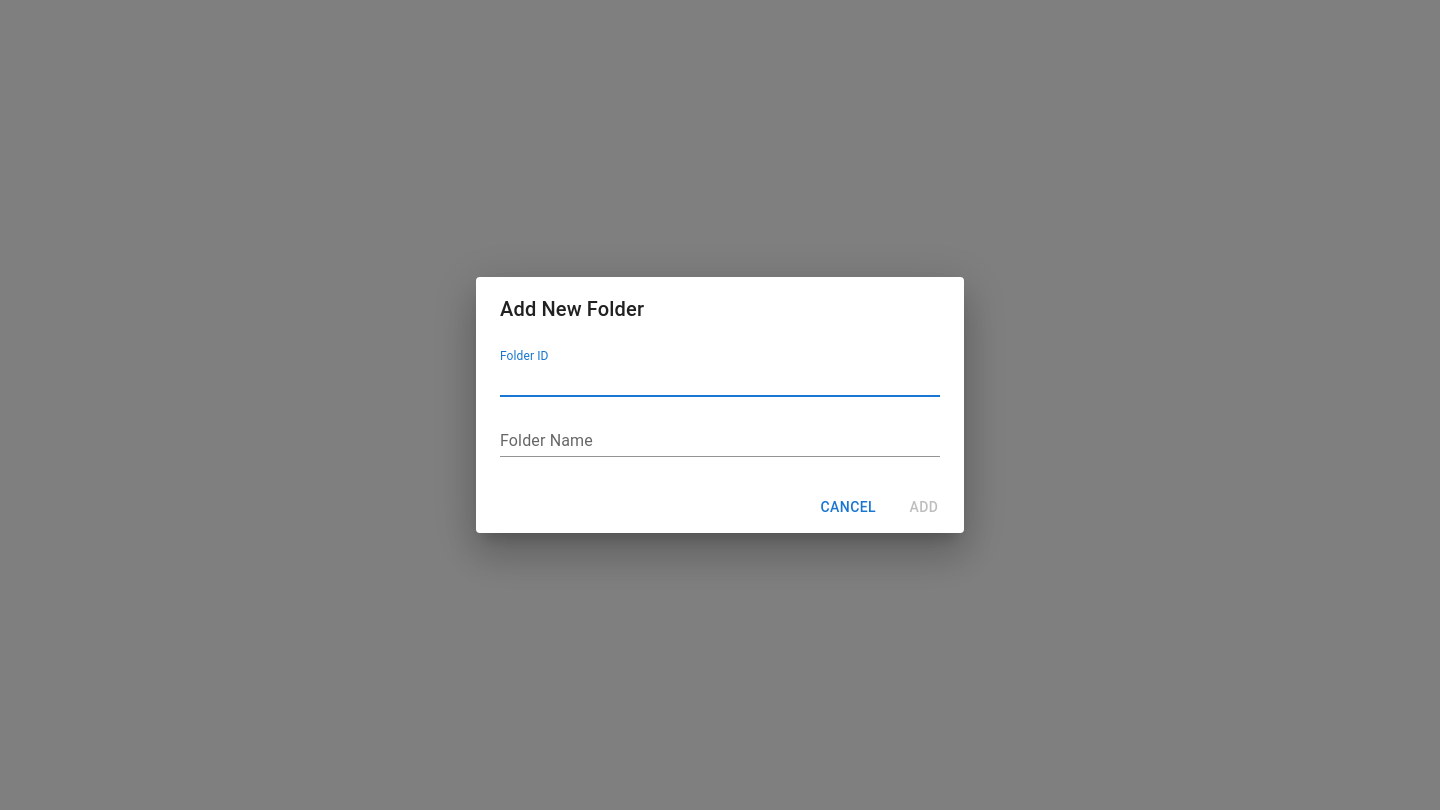
FolderManagement › 正しいフォルダIDを入力すると folderName が自動入力されて Add が有効になる
Type "valid-folder-id" into the password field labelled "Folder ID" at {"x": 720, "y": 381}, box [500,365,940,397]
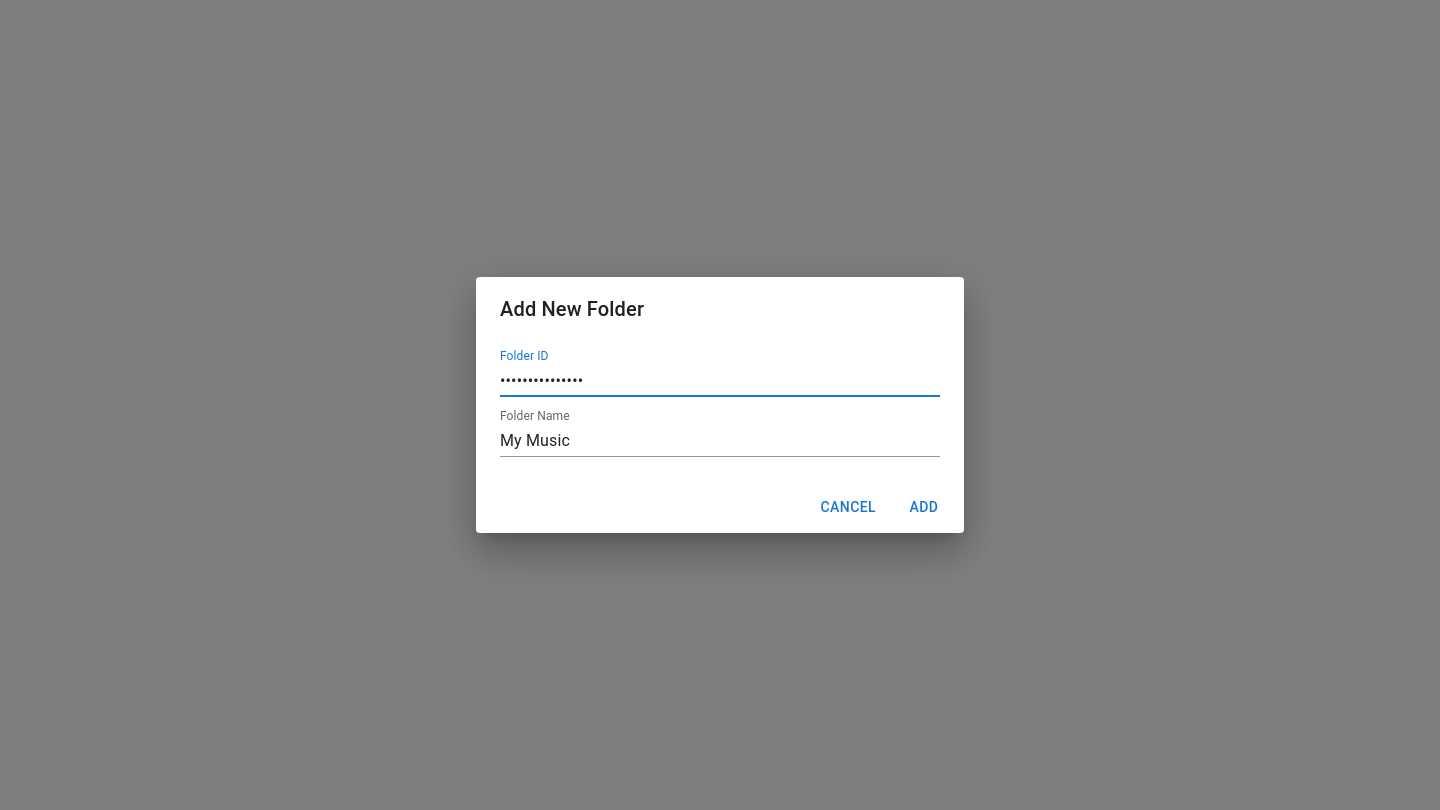
Check: the field labelled "Folder Name" holds "My Music", box [500,425,940,457]
Check: the button "Add" is enabled, box [892,489,956,525]
